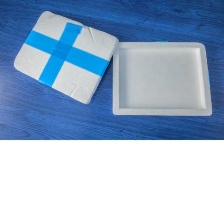foam_box: (9, 7, 122, 109), (107, 36, 215, 119)
